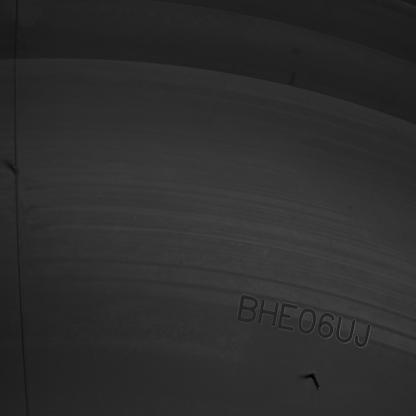ocr: (237, 293, 373, 349)
